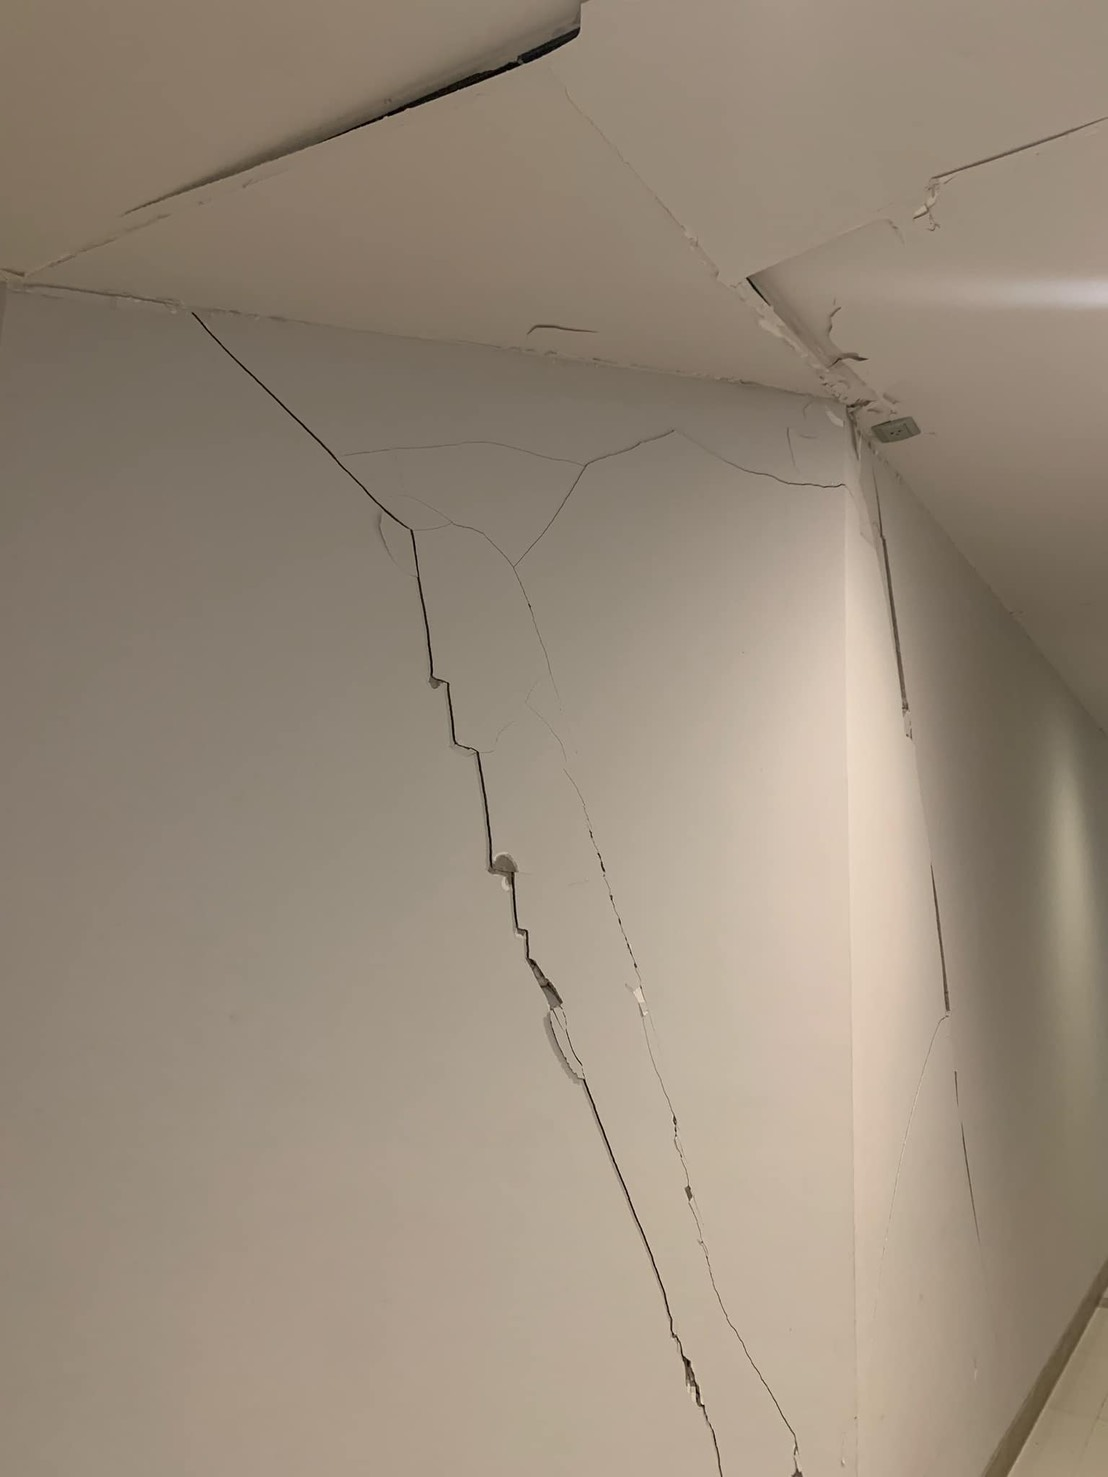Medium: (261, 372, 818, 1427)
